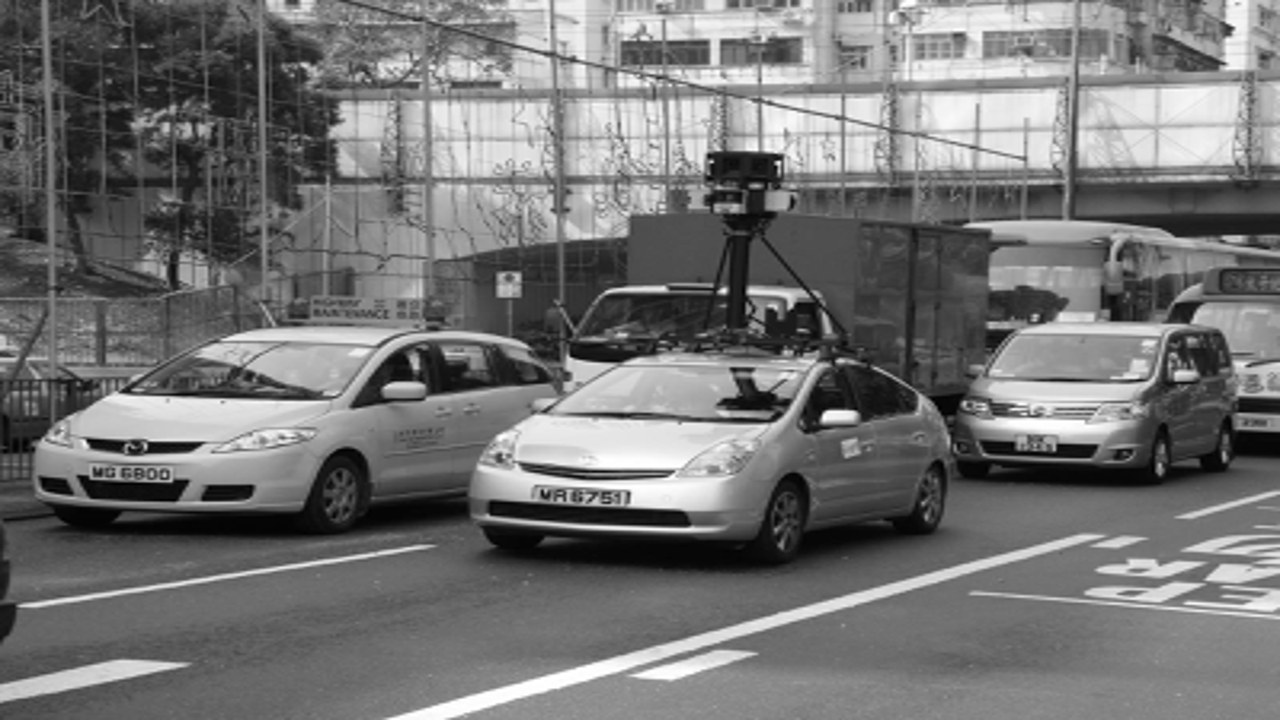license: (530, 483, 633, 521), (81, 458, 178, 489), (1010, 426, 1066, 457)
